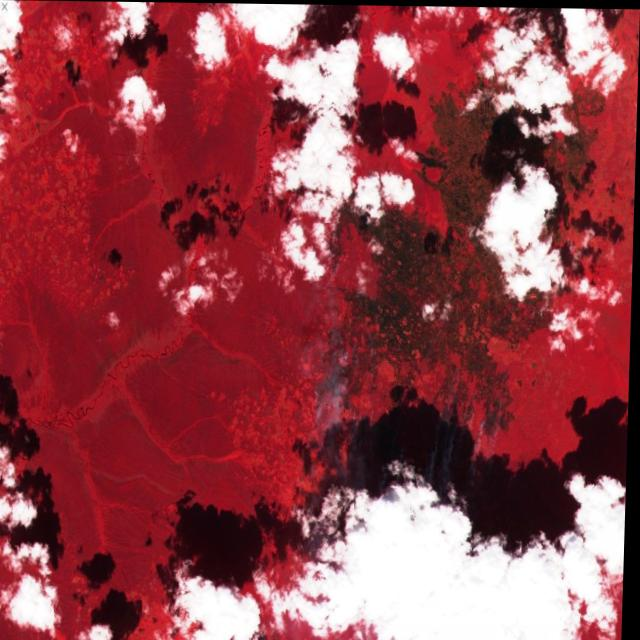fire: (311, 299, 367, 464), (428, 396, 518, 451)
